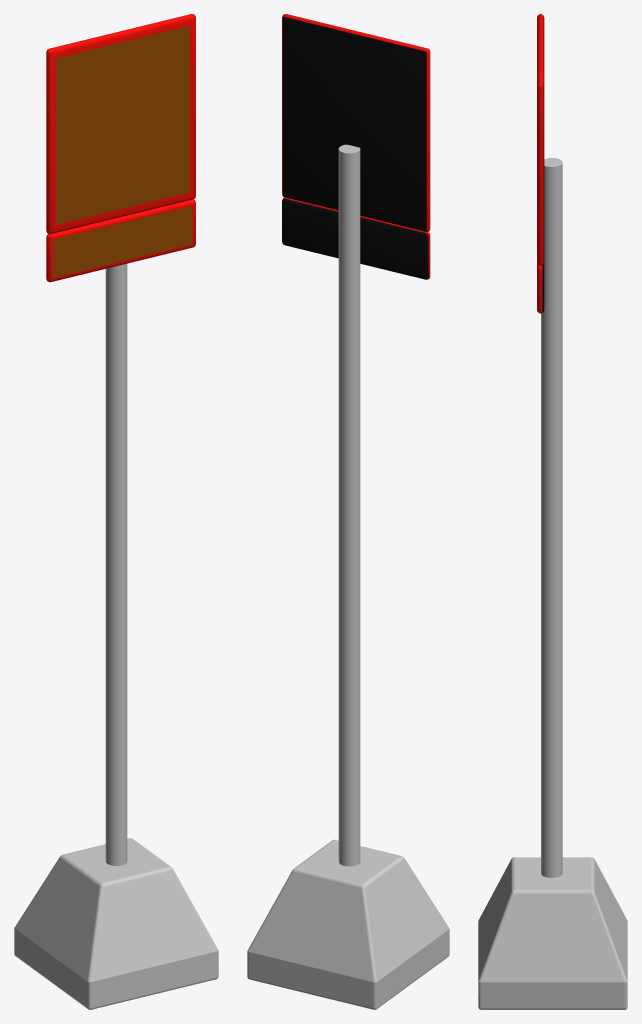
File: street_sign.obj
3 views of the same model, side by side, from view 1: azimuth 30°, elevation 25°; view 2: azimuth 150°, elevation 25°; view 3: azimuth 270°, elevation 25° (orthographic).
Visible parts, largest first — view 1: Cube.036_Cube.040, Cube.038_Cube.039, Cylinder.004, Cube.037_Cube.041; view 2: Cube.036_Cube.040, Cube.038_Cube.039, Cylinder.004, Cube.037_Cube.041; view 3: Cube.038_Cube.039, Cylinder.004, Cube.036_Cube.040, Cube.037_Cube.041.
Boxes of the visible parts, bbox=[...] form: Cube.036_Cube.040: bbox=[46, 14, 195, 234]; Cube.038_Cube.039: bbox=[14, 838, 218, 1009]; Cylinder.004: bbox=[105, 263, 127, 865]; Cube.037_Cube.041: bbox=[46, 199, 195, 282]; Cube.036_Cube.040: bbox=[282, 14, 430, 231]; Cube.038_Cube.039: bbox=[247, 839, 449, 1009]; Cylinder.004: bbox=[338, 144, 360, 866]; Cube.037_Cube.041: bbox=[282, 197, 430, 279]; Cube.038_Cube.039: bbox=[478, 857, 627, 1009]; Cylinder.004: bbox=[541, 158, 562, 877]; Cube.036_Cube.040: bbox=[537, 14, 544, 265]; Cube.037_Cube.041: bbox=[537, 263, 544, 313].
Bounding box in the file's own units: 0.6289 × 3.8 × 0.5529.
